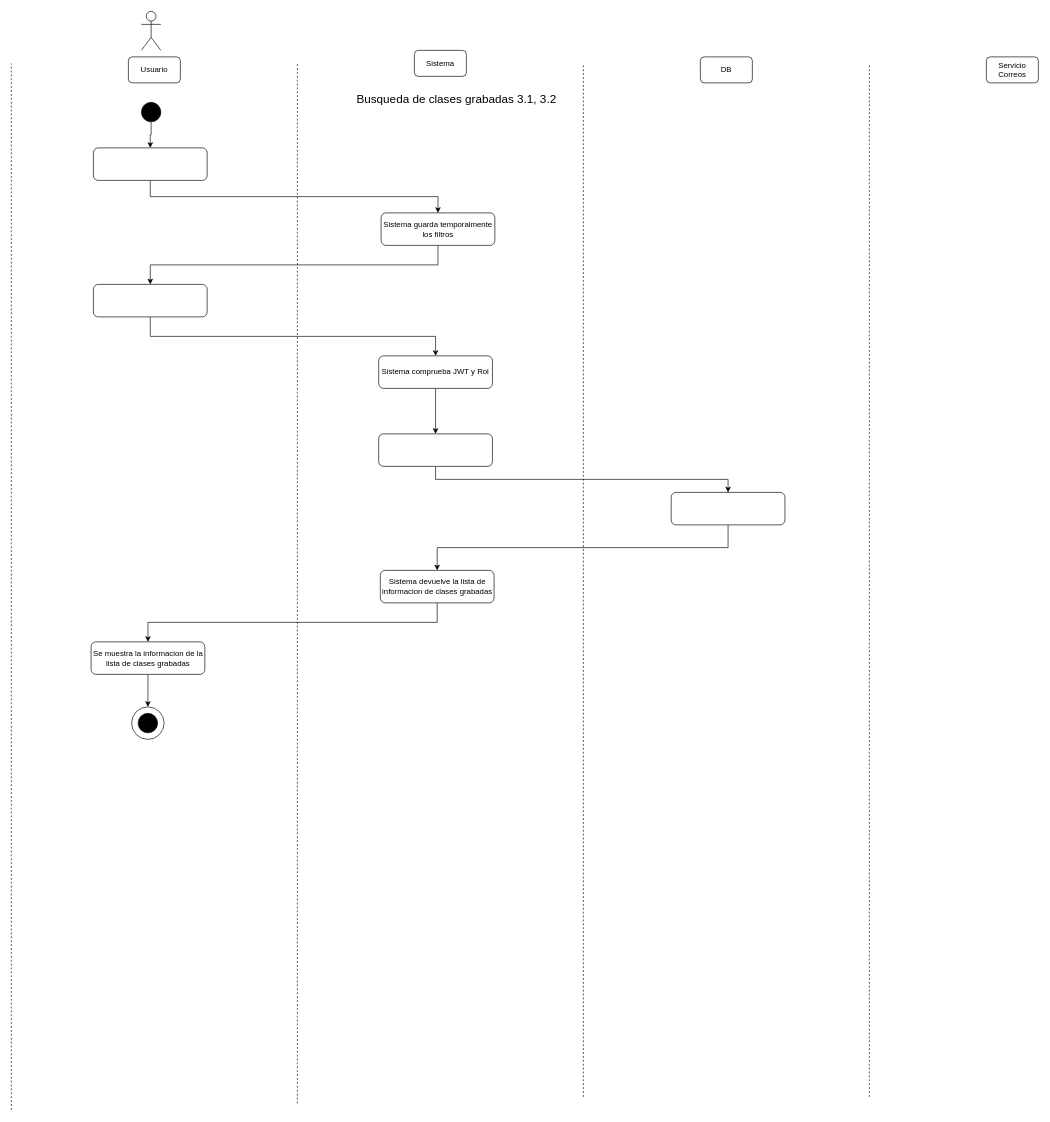
The diagram is 1050 pixels wide and 1122 high, and some of its shapes have lost their labels. Each missing label, with the centre of its shape:
"DB devuelve informacion requerida" goes at (x=728, y=508).
"Sistema busca en DB aplicando filtros" goes at (x=435, y=449).
"Usuario aplica filtros de semestre/anio, escuela, curso, profesor, y temas" goes at (x=150, y=163).
"Usuario realiza la consulta de las clases grabadas" goes at (x=150, y=300).
